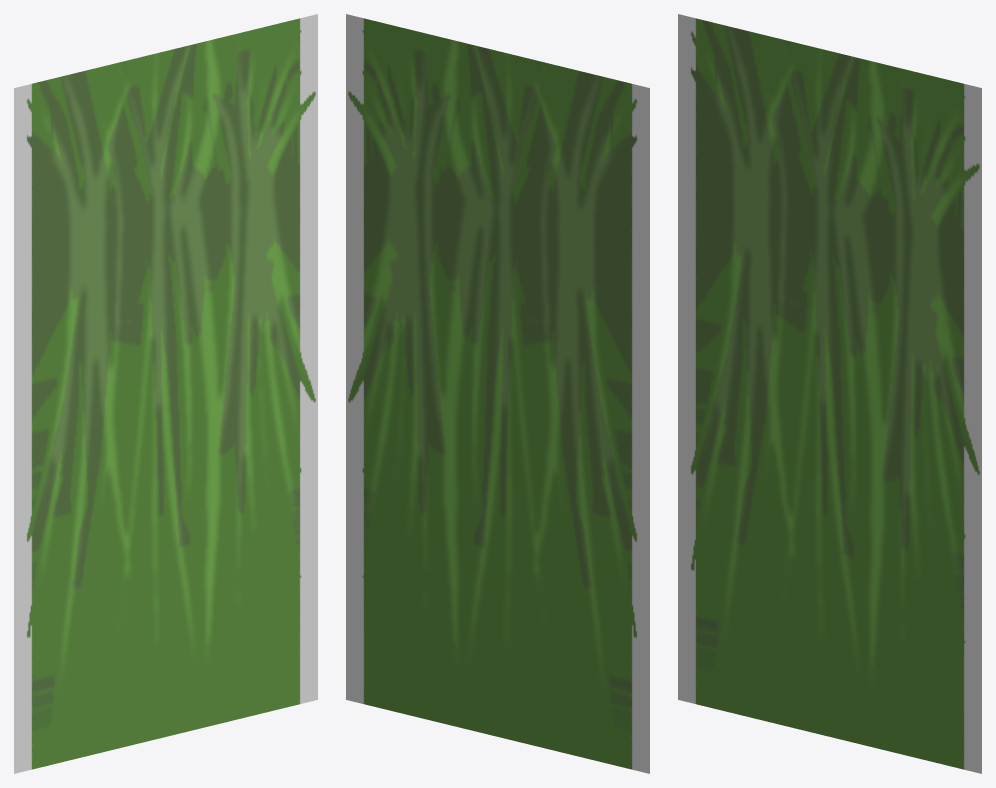
The model's file is GrassPlane.FBX.
The picture shows the model from 3 angles, left to right: view 1: azimuth 30°, elevation 25°; view 2: azimuth 150°, elevation 25°; view 3: azimuth 330°, elevation 25°; orthographic projection.
Visible parts, largest first — view 1: Plane001; view 2: Plane001; view 3: Plane001.
Part boxes in pixels (bbox=[...]): Plane001: bbox=[14, 14, 317, 773]; Plane001: bbox=[346, 14, 649, 773]; Plane001: bbox=[678, 14, 981, 773].
Size of the model in its own units: 6.64 by 14.32 by 6.26e-07.
